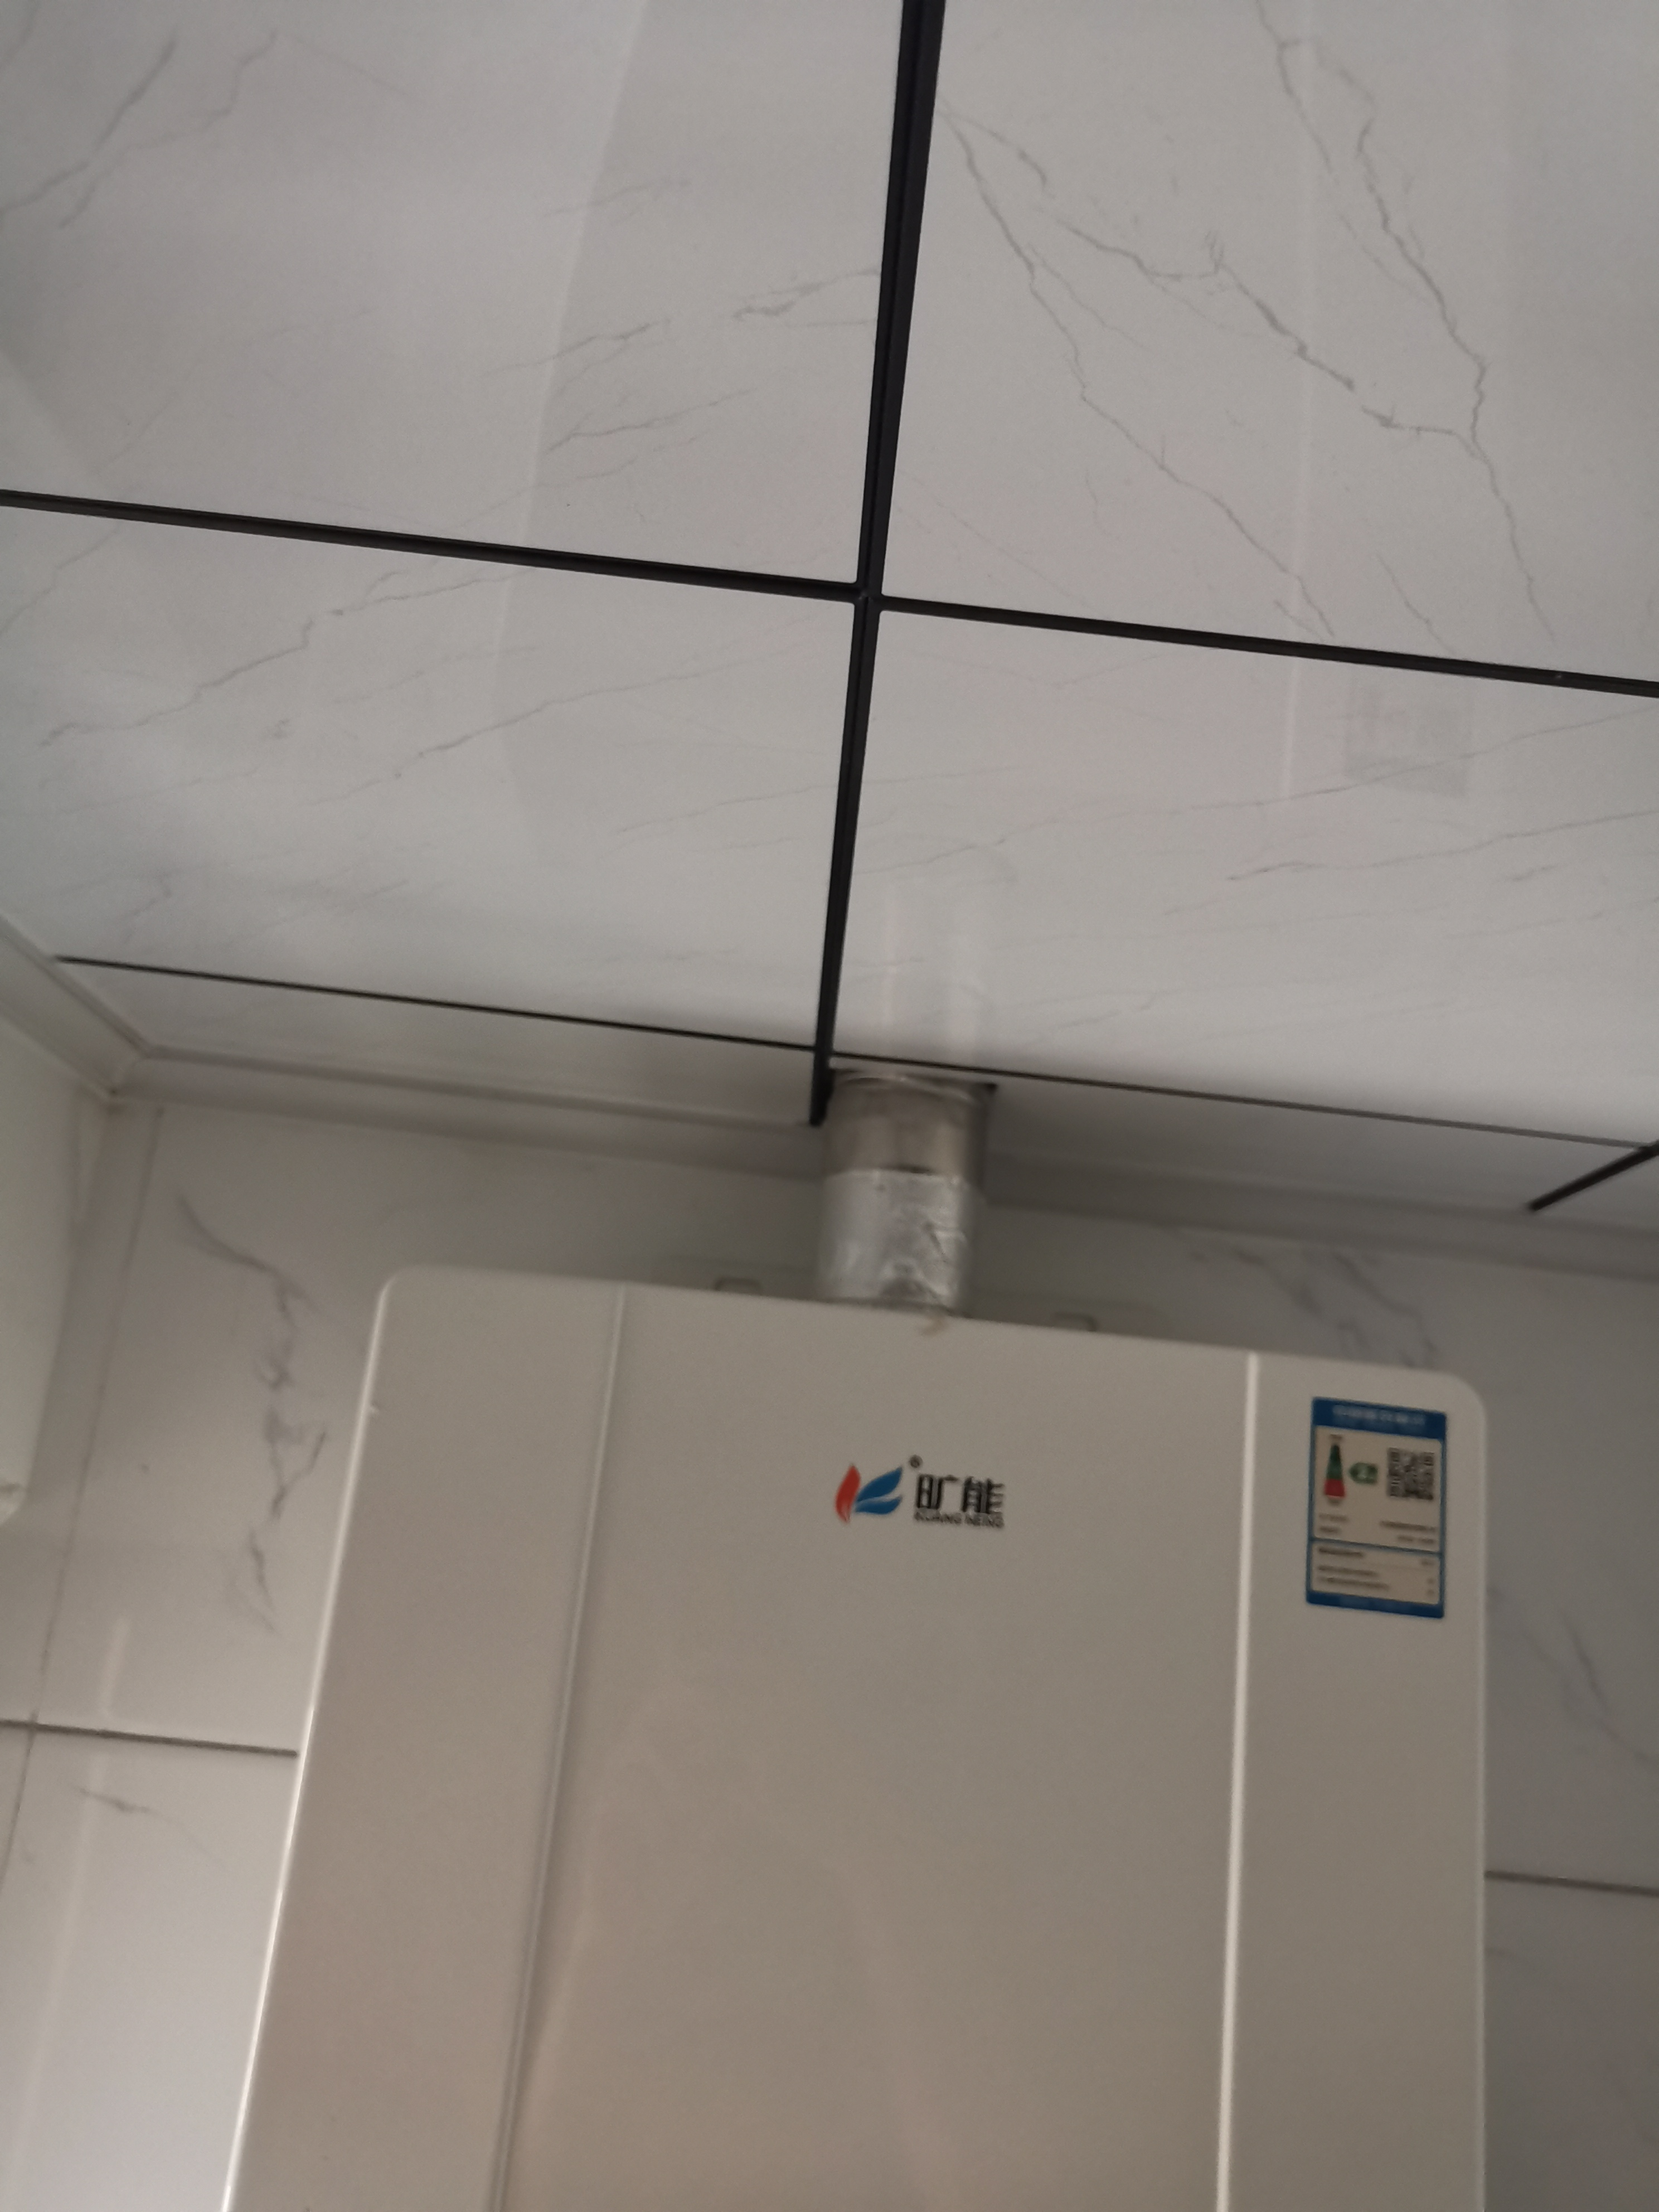loudou: (814, 1432, 1021, 1555)
